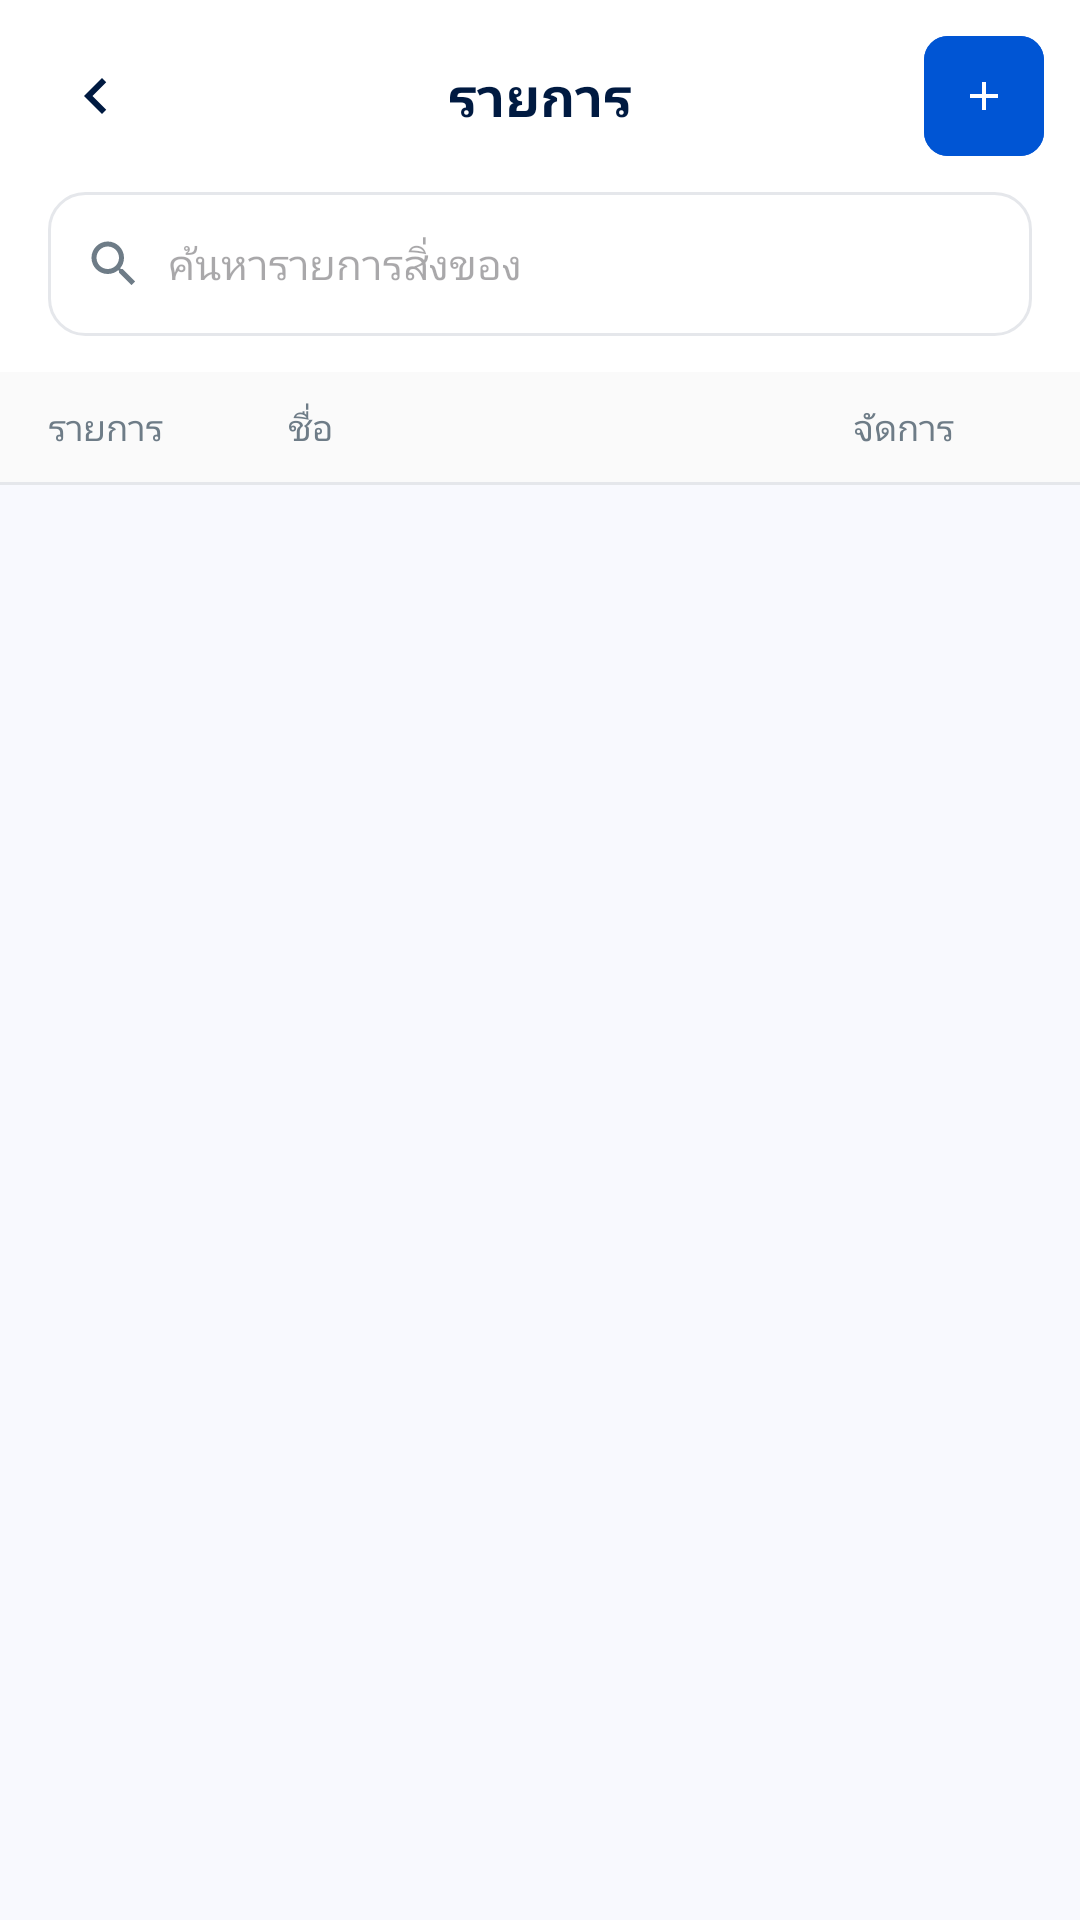

Icon click points for this 1080 × 1920 phone screenshot, format [x,y]:
add: [984,96]
Back: [95,96]
search: [113,263]
